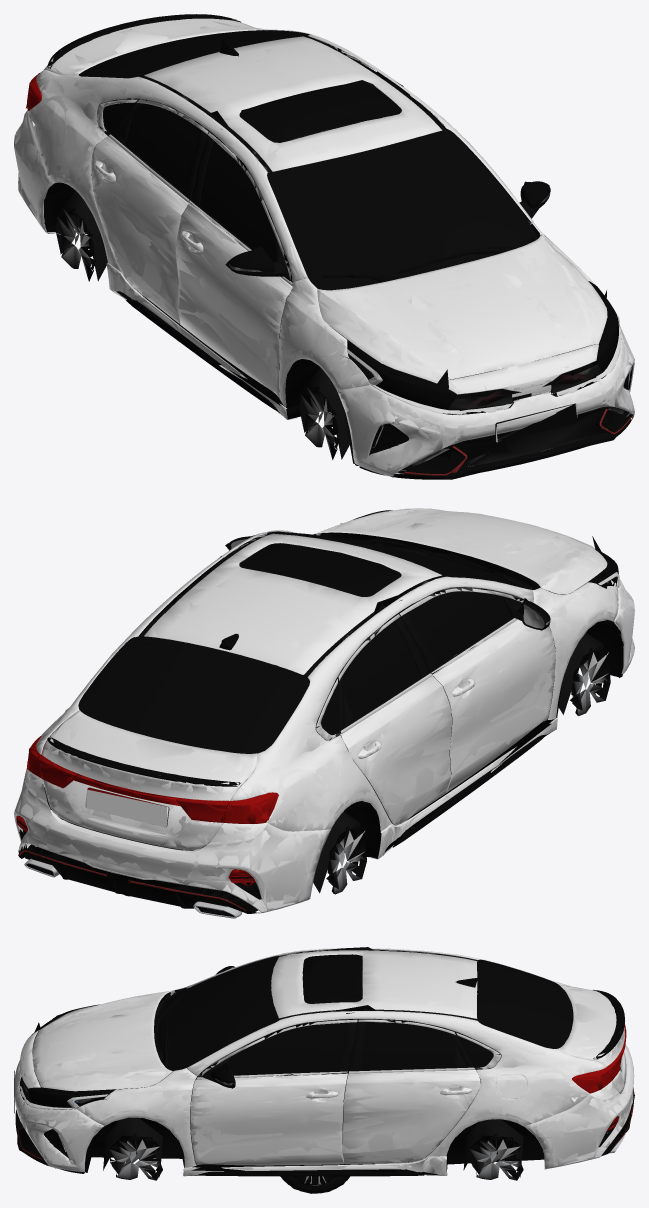
The model's file is sedan10.glb.
3 renders of one model, top to bottom at view 1: azimuth 30°, elevation 25°; view 2: azimuth 150°, elevation 25°; view 3: azimuth 270°, elevation 25°, orthographic. The views are drawn at different scales.
Visible parts, largest first — view 1: body0, body2, body1; view 2: body0, body2, body1; view 3: body0, body1, body2, wheel0, wheel1.
Boxes of the visible parts, x1,y1,x2,y2 form: body0: (14, 14, 634, 479); body2: (14, 18, 634, 479); body1: (14, 14, 634, 479); body0: (14, 508, 634, 918); body2: (14, 508, 634, 918); body1: (14, 508, 634, 918); body0: (14, 948, 633, 1176); body1: (14, 948, 633, 1176); body2: (14, 947, 634, 1180); wheel0: (281, 1176, 349, 1193); wheel1: (280, 1176, 345, 1193).
Bounding box in the file's own units: 2.07 × 1.77 × 4.65.
